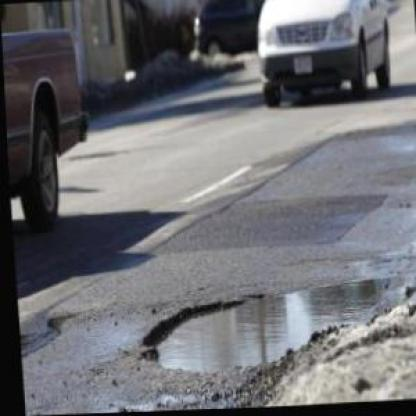pothole: (130, 276, 395, 372), (43, 311, 72, 330)
